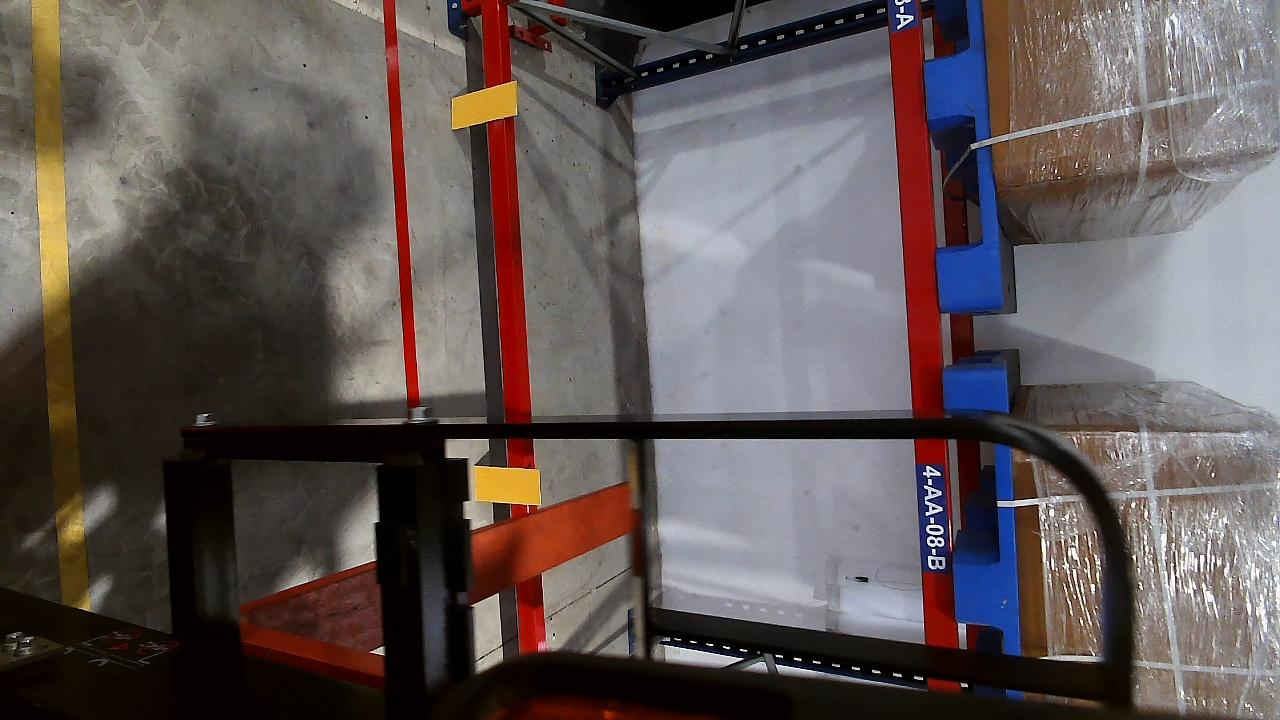h_rack: (888, 2, 958, 694), (477, 4, 544, 655)
orange_strip: (450, 82, 519, 129), (470, 465, 541, 506)
red_line: (380, 0, 421, 407)
small_pallet: (916, 0, 1005, 309), (942, 367, 1020, 696)
yellow_line: (23, 0, 91, 611)
